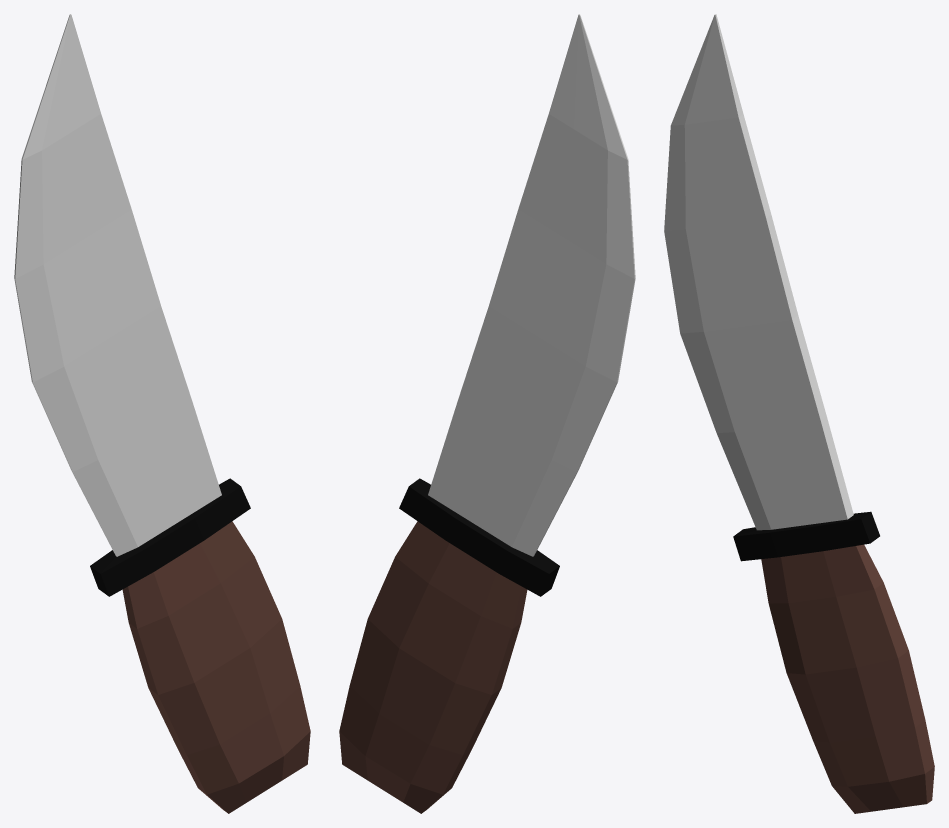
File: knife.glb
3 renders of one model, left to right at view 1: azimuth 30°, elevation 25°; view 2: azimuth 150°, elevation 25°; view 3: azimuth 330°, elevation 25°, orthographic. The views are drawn at different scales.
Parts seen in each view (by area): view 1: Knife; view 2: Knife; view 3: Knife.
Part boxes in pixels (x1=…): Knife: x1=14, y1=14, x2=310, y2=813; Knife: x1=339, y1=14, x2=635, y2=813; Knife: x1=664, y1=14, x2=934, y2=813.
Size of the model in its own units: 25.26 by 69.42 by 3.85.
